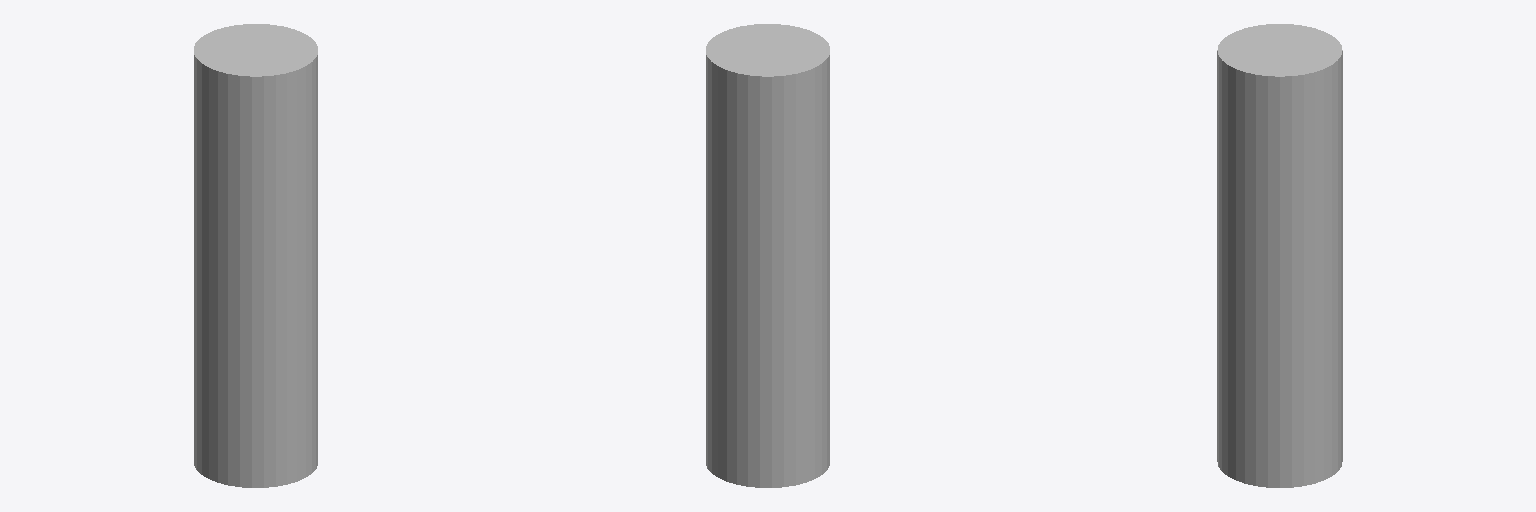
File: VerbindungsstueckS1.obj
3 views of the same model, side by side, from view 1: azimuth 30°, elevation 25°; view 2: azimuth 150°, elevation 25°; view 3: azimuth 270°, elevation 25° (orthographic).
Visible parts, largest first — view 1: Verbindungsstück_S.001_Cylinder.016; view 2: Verbindungsstück_S.001_Cylinder.016; view 3: Verbindungsstück_S.001_Cylinder.016.
Boxes of the visible parts, <box> form: Verbindungsstück_S.001_Cylinder.016: <box>194,24,317,487</box>; Verbindungsstück_S.001_Cylinder.016: <box>706,24,829,487</box>; Verbindungsstück_S.001_Cylinder.016: <box>1217,24,1342,487</box>.
Size of the model in its own units: 0.2335 by 0.8463 by 0.2335.